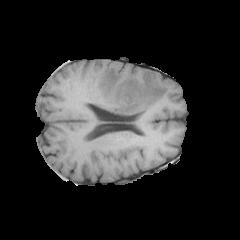glioma: (95, 66, 168, 115)
